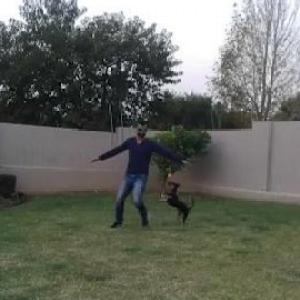land: (98, 119, 199, 238)
